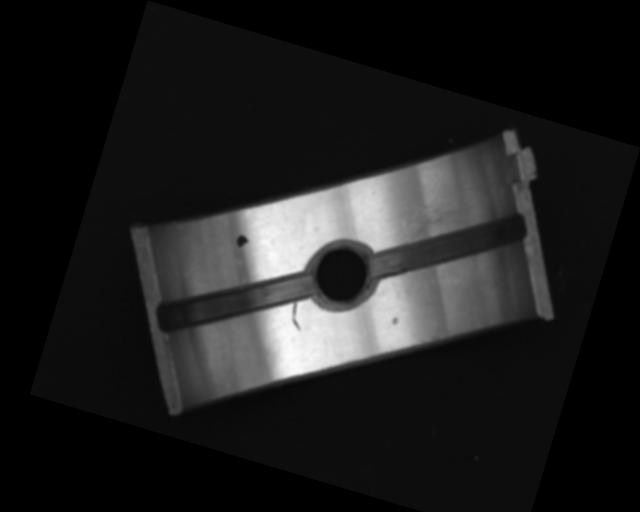blot: (233, 234, 250, 252)
bruise: (390, 314, 400, 326)
gap: (366, 177, 530, 315), (154, 238, 312, 366)
hole: (300, 235, 382, 317)
nick: (286, 300, 308, 331)
scratch: (399, 186, 477, 257)
